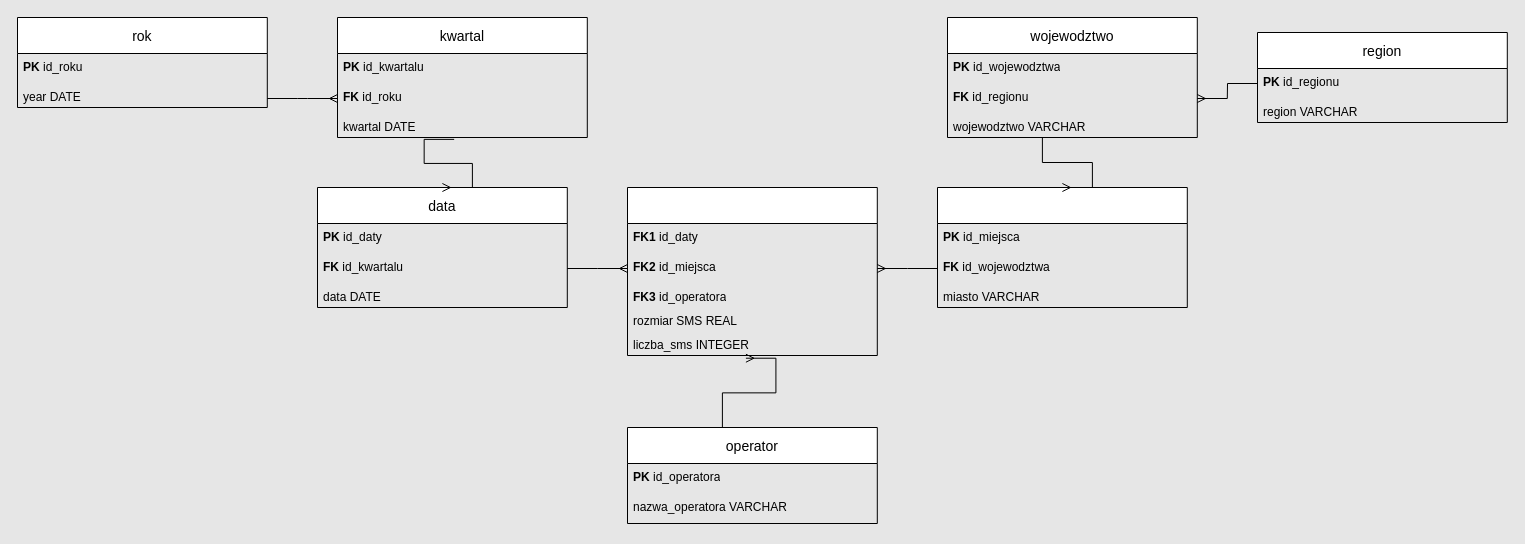
The diagram is 1525 pixels wide and 544 high, and some of its shapes have lost their labels. Each missing label, with the box of its shape:
miejsce: (936, 186, 1187, 308)
wyslane_sms: (626, 186, 877, 356)
